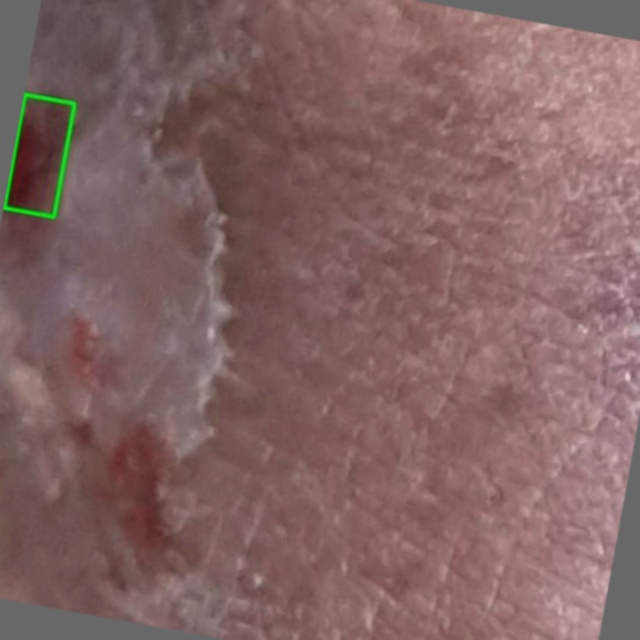Contact Dermatitis: (4, 94, 74, 216)
